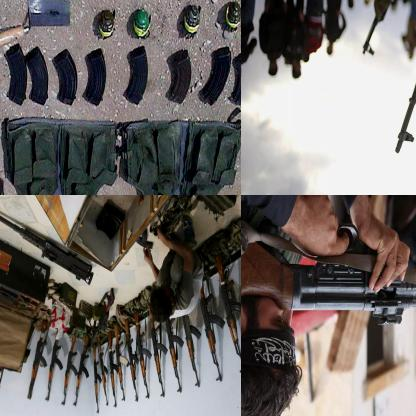rifle: (241, 219, 415, 329), (0, 195, 96, 289), (359, 0, 415, 57), (215, 257, 240, 374), (199, 282, 227, 384), (149, 304, 169, 398), (87, 286, 114, 352), (27, 332, 52, 400), (134, 313, 153, 402), (73, 332, 93, 409), (44, 334, 66, 404), (167, 316, 186, 394), (183, 317, 203, 391), (125, 319, 142, 402), (62, 332, 81, 406), (115, 322, 131, 404), (107, 330, 122, 410), (100, 339, 114, 409), (93, 343, 104, 415)
